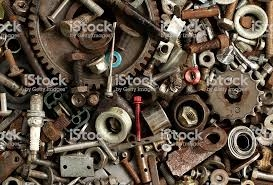metal: (162, 124, 232, 183), (197, 64, 269, 120), (19, 91, 55, 164), (112, 1, 169, 40), (167, 91, 213, 137), (90, 105, 137, 146), (136, 97, 176, 138), (99, 19, 119, 101), (223, 121, 260, 162), (55, 151, 102, 182), (183, 29, 232, 58), (55, 4, 96, 38), (62, 46, 89, 97), (131, 142, 156, 185), (128, 92, 148, 144), (178, 3, 221, 25), (117, 154, 140, 183), (2, 47, 22, 79), (32, 11, 57, 36), (1, 91, 17, 117)
